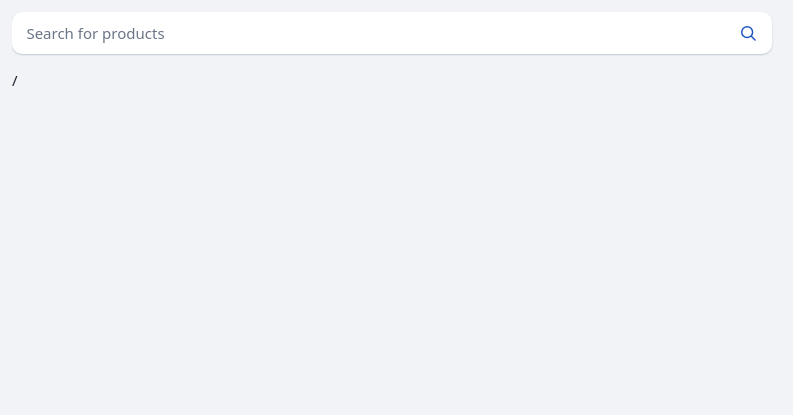
it: SearchBox suggestions › lists at most six product names, each with a picture, and goes to the product page on a click
This screenshot has width=793, height=415.
Type "phone" into the dropdown named "Search products" at [368, 33], box [12,12,724,54]
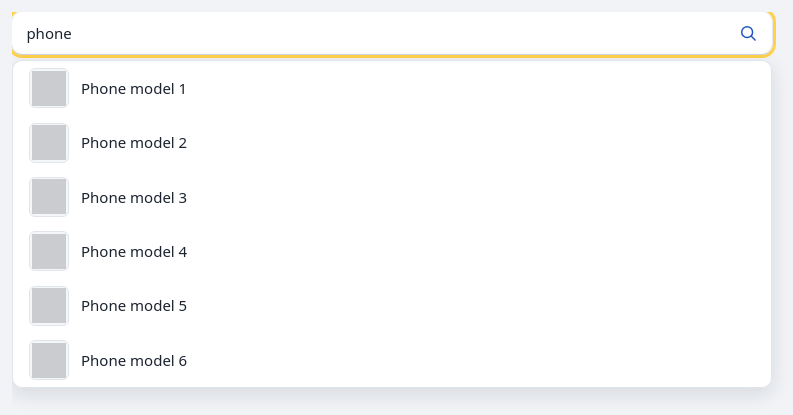
Check: the number of options is 6
Check: the option "Phone model 1" is shown, box [29,68,187,108]
Click the option "Phone model 3" at [108, 197], box [29,177,187,217]
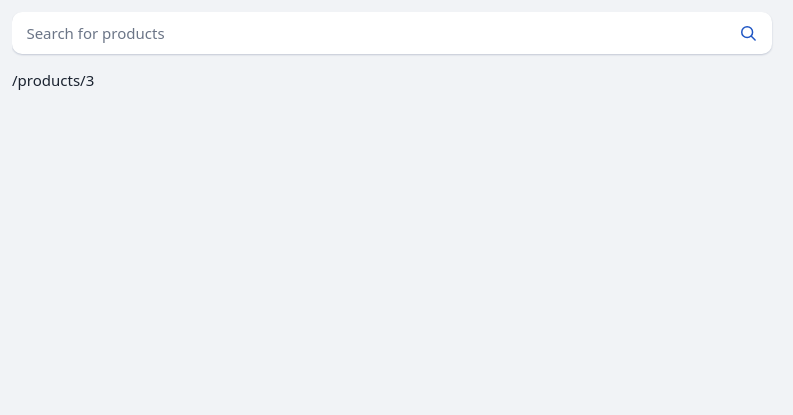
Check: the text with test id "where" reads "/products/3", box [12,70,94,90]
Check: the list is gone
